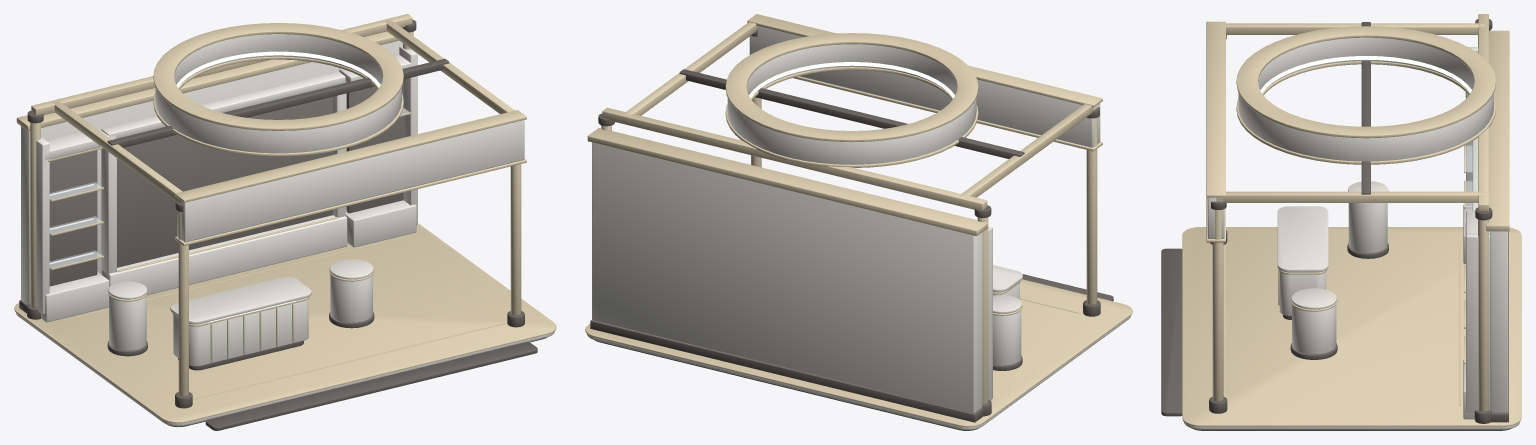
Rendered from booth_01_signature_ring_v4.glb.
3 views of the same model, side by side, from view 1: azimuth 30°, elevation 25°; view 2: azimuth 150°, elevation 25°; view 3: azimuth 270°, elevation 25° (orthographic). The views are drawn at different scales.
Parts seen in each view (by area): view 1: Booth01_SignatureRing_Champagne_Gold_Metal, Booth01_SignatureRing_Cream_Matte_Panel, Booth01_SignatureRing_Warm_Taupe_Recess, Booth01_SignatureRing_Warm_Ivory_Stone, Booth01_SignatureRing_Dark_Bronze_Plinth, Booth01_SignatureRing_Warm_White_LED, Booth01_SignatureRing_Clear_Tempered_Glass; view 2: Booth01_SignatureRing_Cream_Matte_Panel, Booth01_SignatureRing_Champagne_Gold_Metal, Booth01_SignatureRing_Dark_Bronze_Plinth, Booth01_SignatureRing_Warm_Ivory_Stone, Booth01_SignatureRing_Warm_White_LED; view 3: Booth01_SignatureRing_Champagne_Gold_Metal, Booth01_SignatureRing_Cream_Matte_Panel, Booth01_SignatureRing_Dark_Bronze_Plinth, Booth01_SignatureRing_Warm_Ivory_Stone, Booth01_SignatureRing_Warm_White_LED, Booth01_SignatureRing_Clear_Tempered_Glass.
Boxes of the visible parts, x1,y1,x2,y2 form: Booth01_SignatureRing_Champagne_Gold_Metal: (14, 14, 556, 423); Booth01_SignatureRing_Cream_Matte_Panel: (21, 34, 524, 366); Booth01_SignatureRing_Warm_Taupe_Recess: (49, 80, 403, 286); Booth01_SignatureRing_Warm_Ivory_Stone: (16, 200, 554, 426); Booth01_SignatureRing_Dark_Bronze_Plinth: (19, 20, 546, 430); Booth01_SignatureRing_Warm_White_LED: (49, 51, 530, 423); Booth01_SignatureRing_Clear_Tempered_Glass: (49, 107, 409, 269); Booth01_SignatureRing_Cream_Matte_Panel: (592, 26, 1100, 413); Booth01_SignatureRing_Champagne_Gold_Metal: (585, 14, 1132, 427); Booth01_SignatureRing_Dark_Bronze_Plinth: (590, 30, 1113, 430); Booth01_SignatureRing_Warm_Ivory_Stone: (587, 265, 1131, 429); Booth01_SignatureRing_Warm_White_LED: (749, 62, 954, 98); Booth01_SignatureRing_Champagne_Gold_Metal: (1182, 14, 1521, 426); Booth01_SignatureRing_Cream_Matte_Panel: (1207, 37, 1508, 413); Booth01_SignatureRing_Dark_Bronze_Plinth: (1161, 19, 1511, 430); Booth01_SignatureRing_Warm_Ivory_Stone: (1184, 181, 1519, 429); Booth01_SignatureRing_Warm_White_LED: (1260, 56, 1471, 92); Booth01_SignatureRing_Clear_Tempered_Glass: (1465, 145, 1472, 363).
Bounding box in the file's own units: 7.2 × 4.29 × 5.52.
